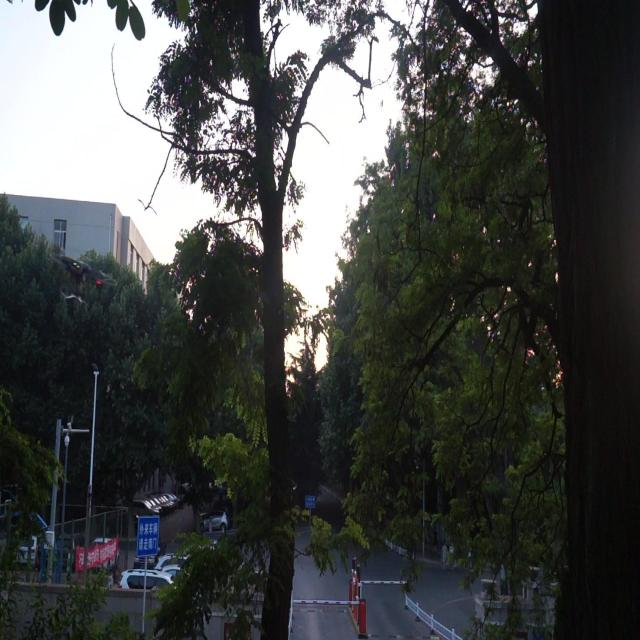drone: (45, 246, 121, 310)
